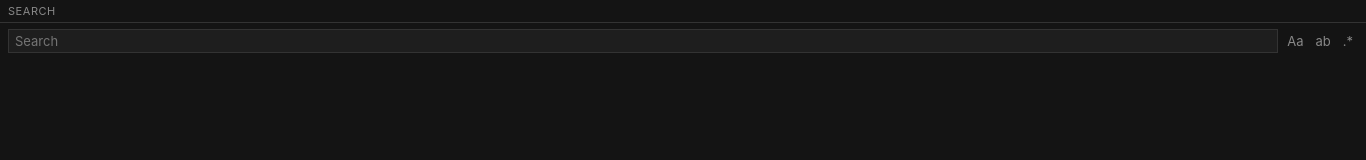
Scenario: SearchView › displays 'No results' when there are 0 results
Type "nope" into the field named "検索". click: (643, 41)
box: left=8, top=29, right=1278, bottom=53
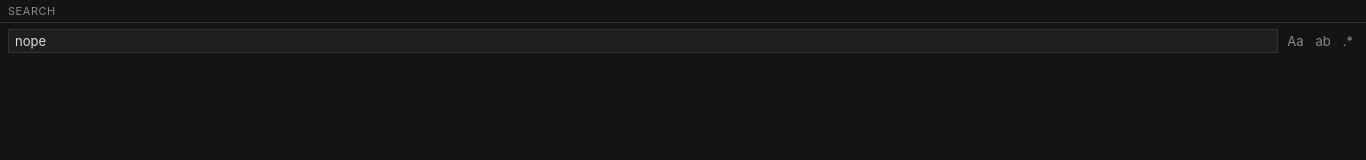
Press Enter in the field named "検索", box left=8, top=29, right=1278, bottom=53
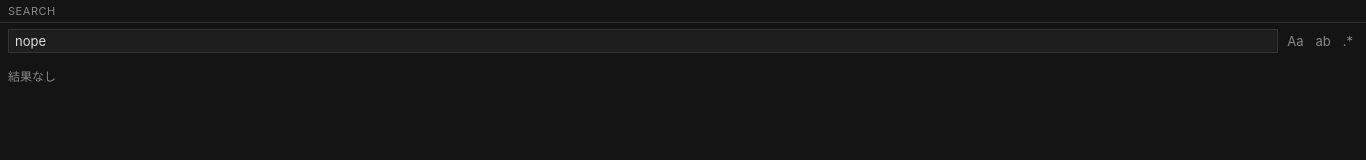
Expected: the text "結果なし" is shown, left=8, top=69, right=56, bottom=84
